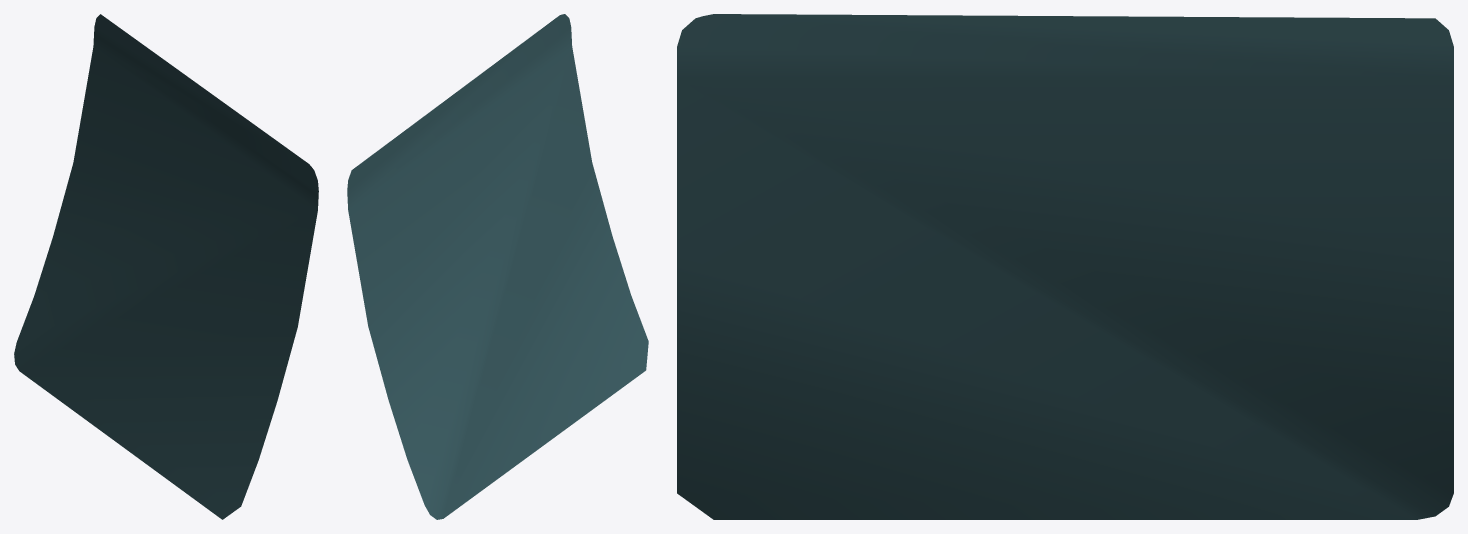
Rendered from FX_MESH_ArcadeScreen_01.fbx.
The picture shows the model from 3 angles, left to right: view 1: azimuth 30°, elevation 25°; view 2: azimuth 150°, elevation 25°; view 3: azimuth 270°, elevation 25°; orthographic projection. The views are drawn at different scales.
Visible parts, largest first — view 1: FX_MESH_ArcadeScreen_01; view 2: FX_MESH_ArcadeScreen_01; view 3: FX_MESH_ArcadeScreen_01.
Part boxes in pixels (<box>): FX_MESH_ArcadeScreen_01: <box>14,14,318,519</box>; FX_MESH_ArcadeScreen_01: <box>347,14,648,519</box>; FX_MESH_ArcadeScreen_01: <box>677,14,1453,519</box>.
Bounding box in the file's own units: 2.73 × 10.09 × 12.27.
